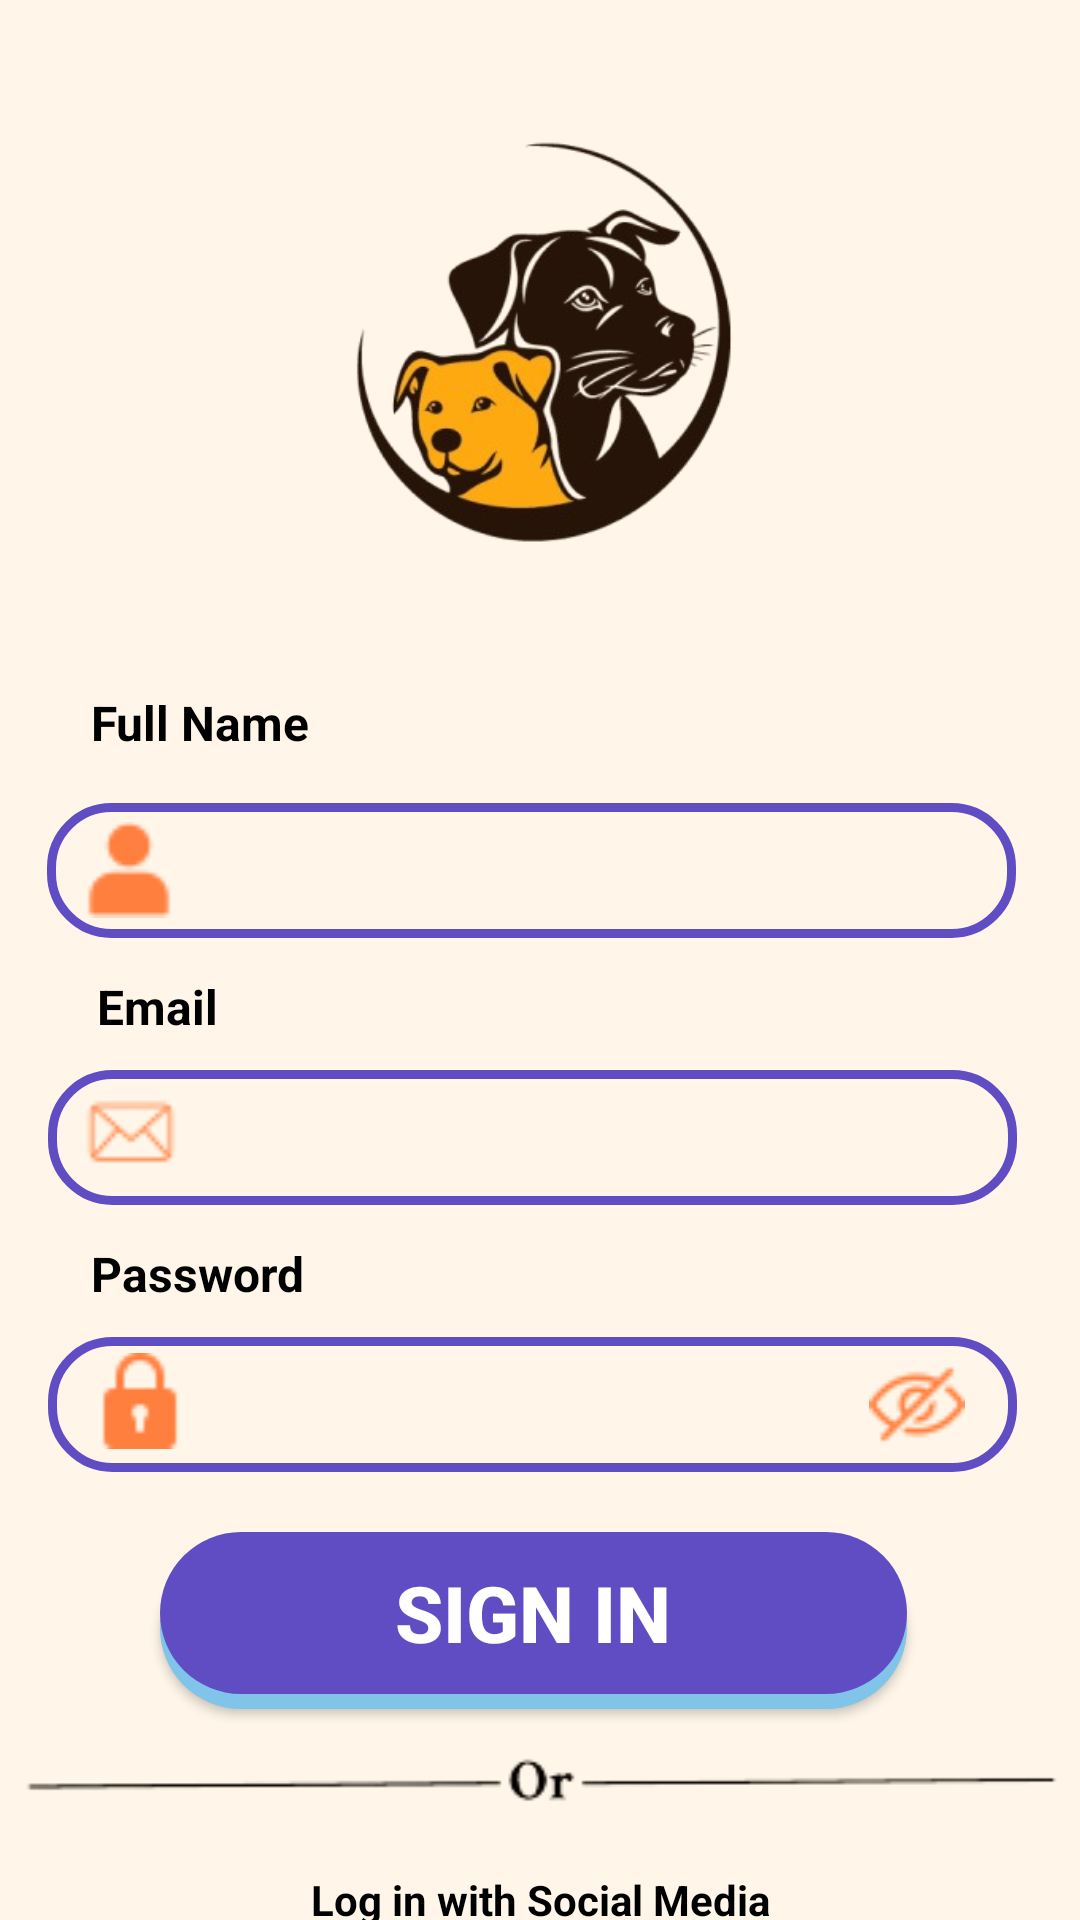

Where to tap for icons on this 1080w x 1920h app screen, as (x,y):
hidepass: (917,1404)
lock: (140,1401)
profile: (129,870)
